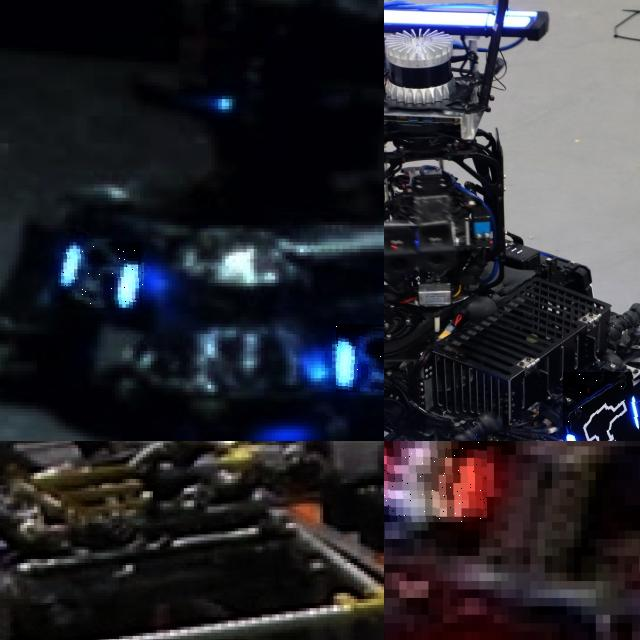Bs: (62, 242, 144, 310), (563, 372, 640, 441), (335, 324, 384, 392)
R4: (384, 441, 486, 522)
